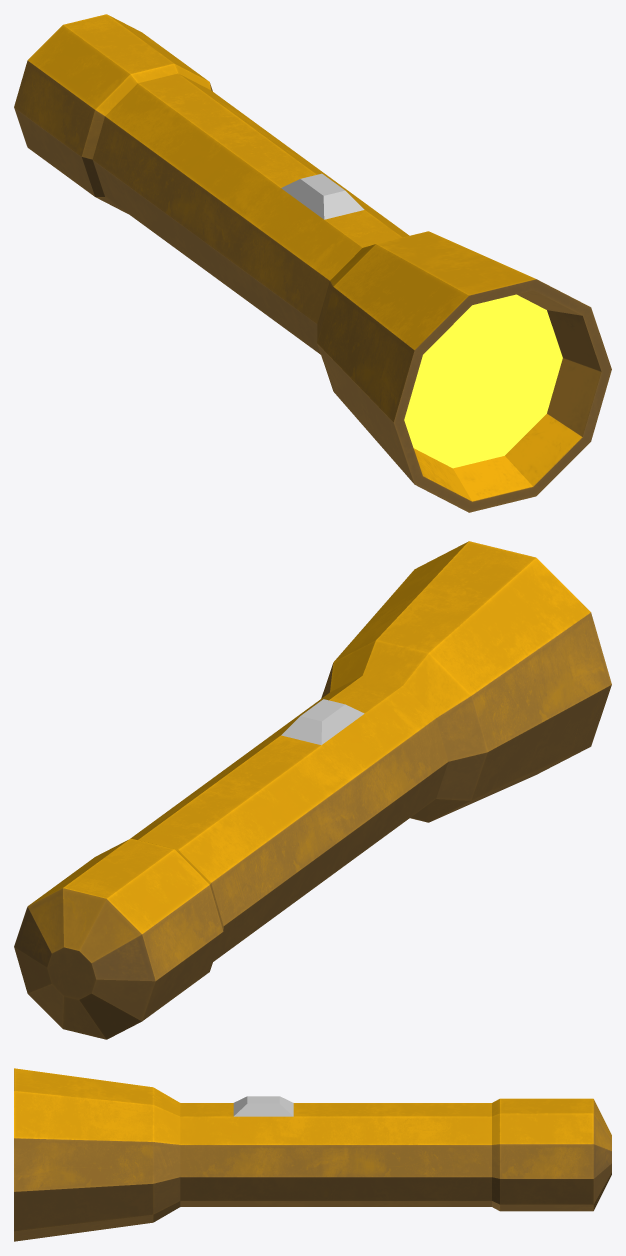
Rendered from FlashLight.fbx.
3 renders of one model, top to bottom at view 1: azimuth 30°, elevation 25°; view 2: azimuth 150°, elevation 25°; view 3: azimuth 270°, elevation 25°, orthographic. The views are drawn at different scales.
Visible parts, largest first — view 1: Flashlight; view 2: Flashlight; view 3: Flashlight.
Part boxes in pixels (box(x1,y1,x2,y2)): Flashlight: box(14, 14, 611, 512); Flashlight: box(14, 541, 611, 1039); Flashlight: box(14, 1068, 611, 1241).
Size of the model in its own units: 5.58 by 19.08 by 5.3.
